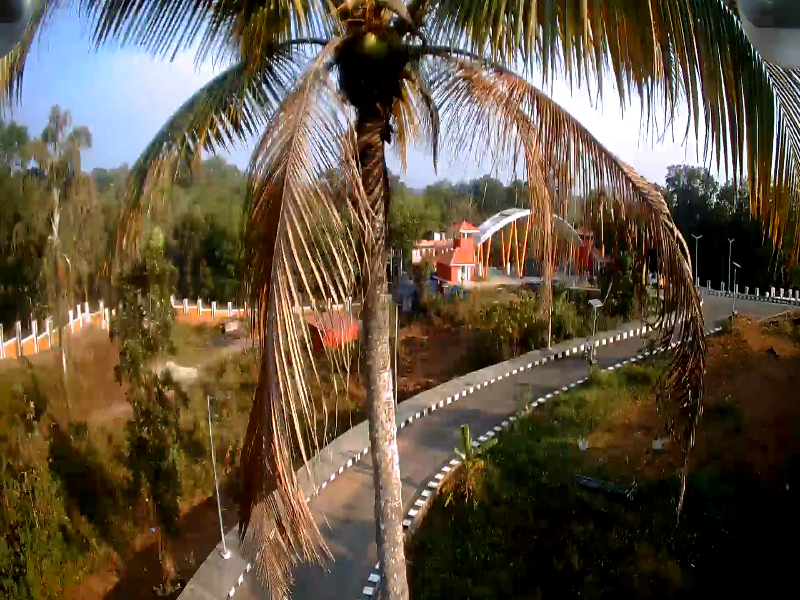coconut: (360, 30, 388, 60)
